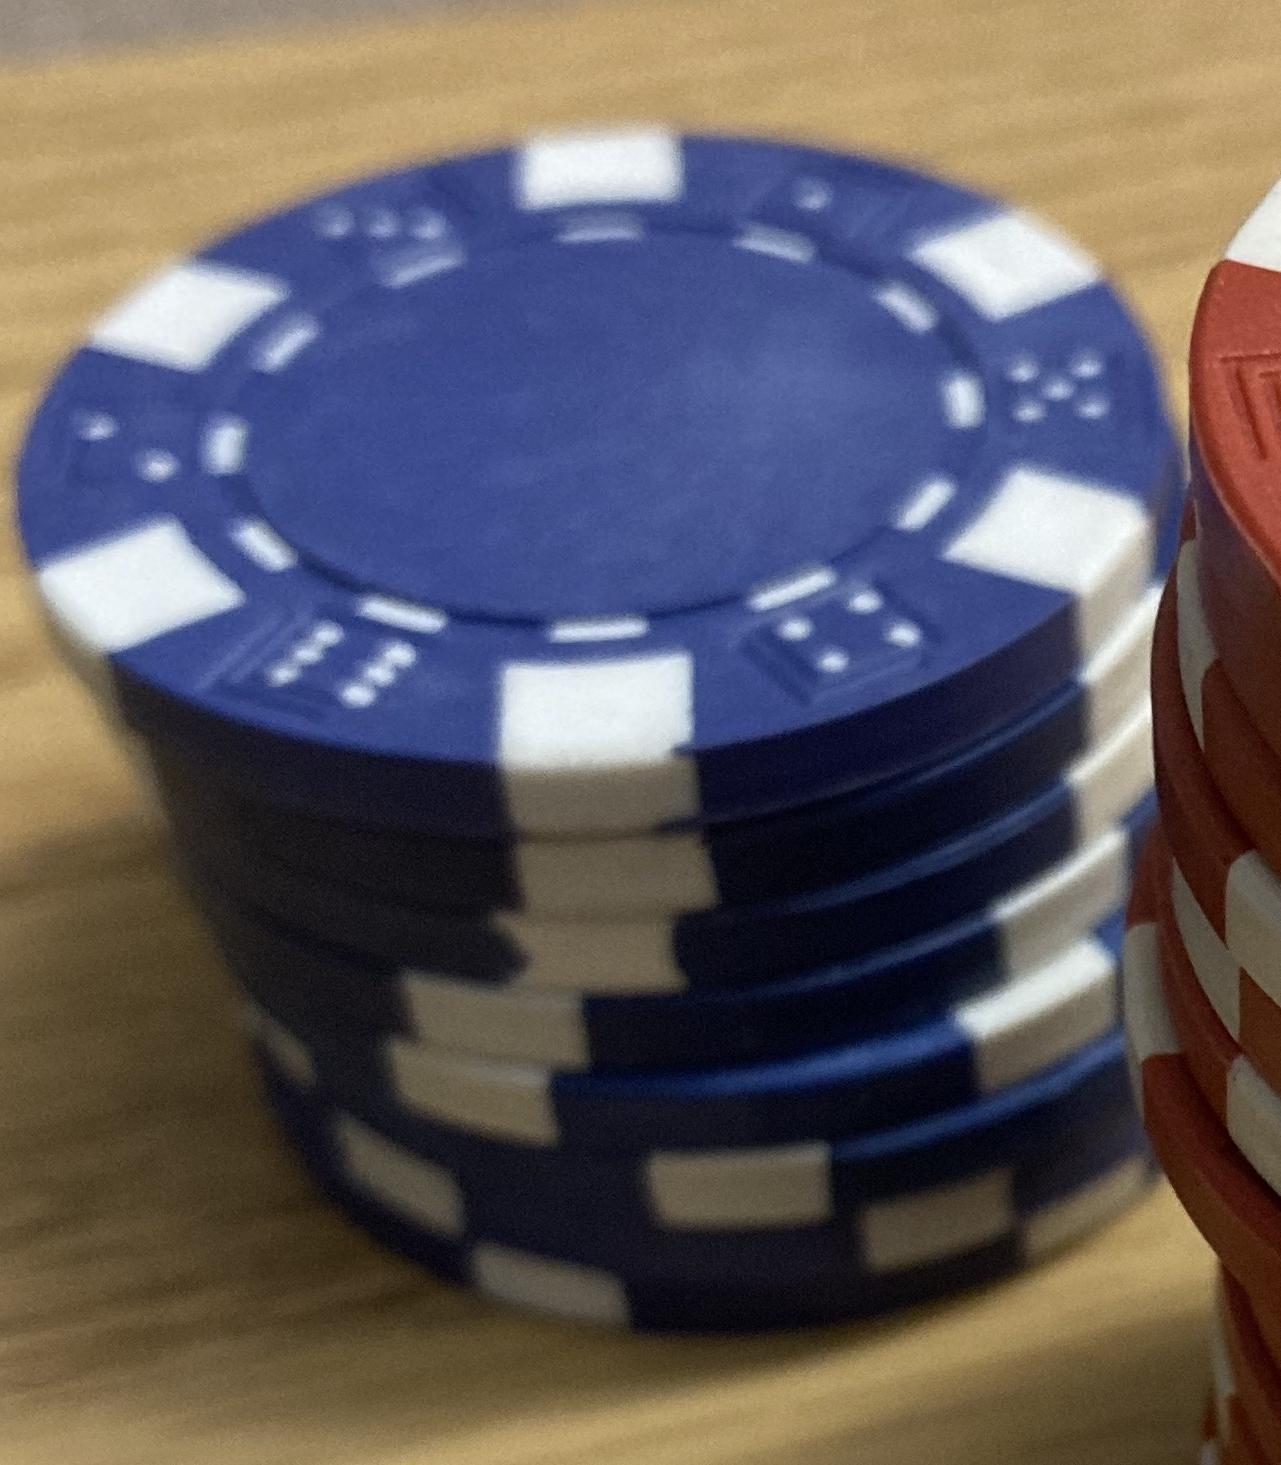Chip: (1, 1, 1281, 1465)
